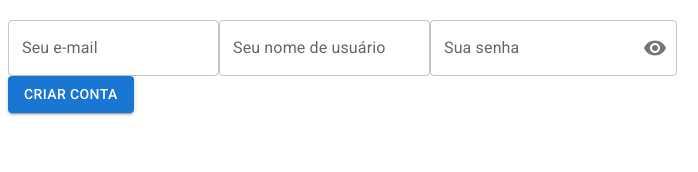
Scenario: Create Account Form - account validation schema › email › renders inputs error messages when try submit form with invalid email
The width and height of the screenshot is (698, 172).
Type "invalid.email@test." into the field labelled "Seu e-mail" at (114, 48), box [8,20,219,76]
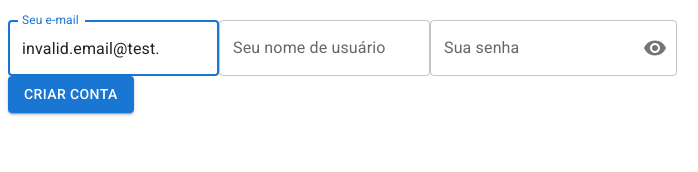
Click the button "Criar conta" at (71, 94), box [8,76,134,112]
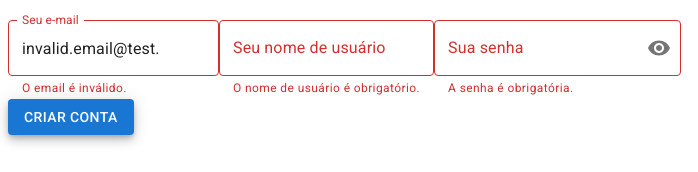
Check: the text "O email é inválido." is shown, box [22,81,127,95]
